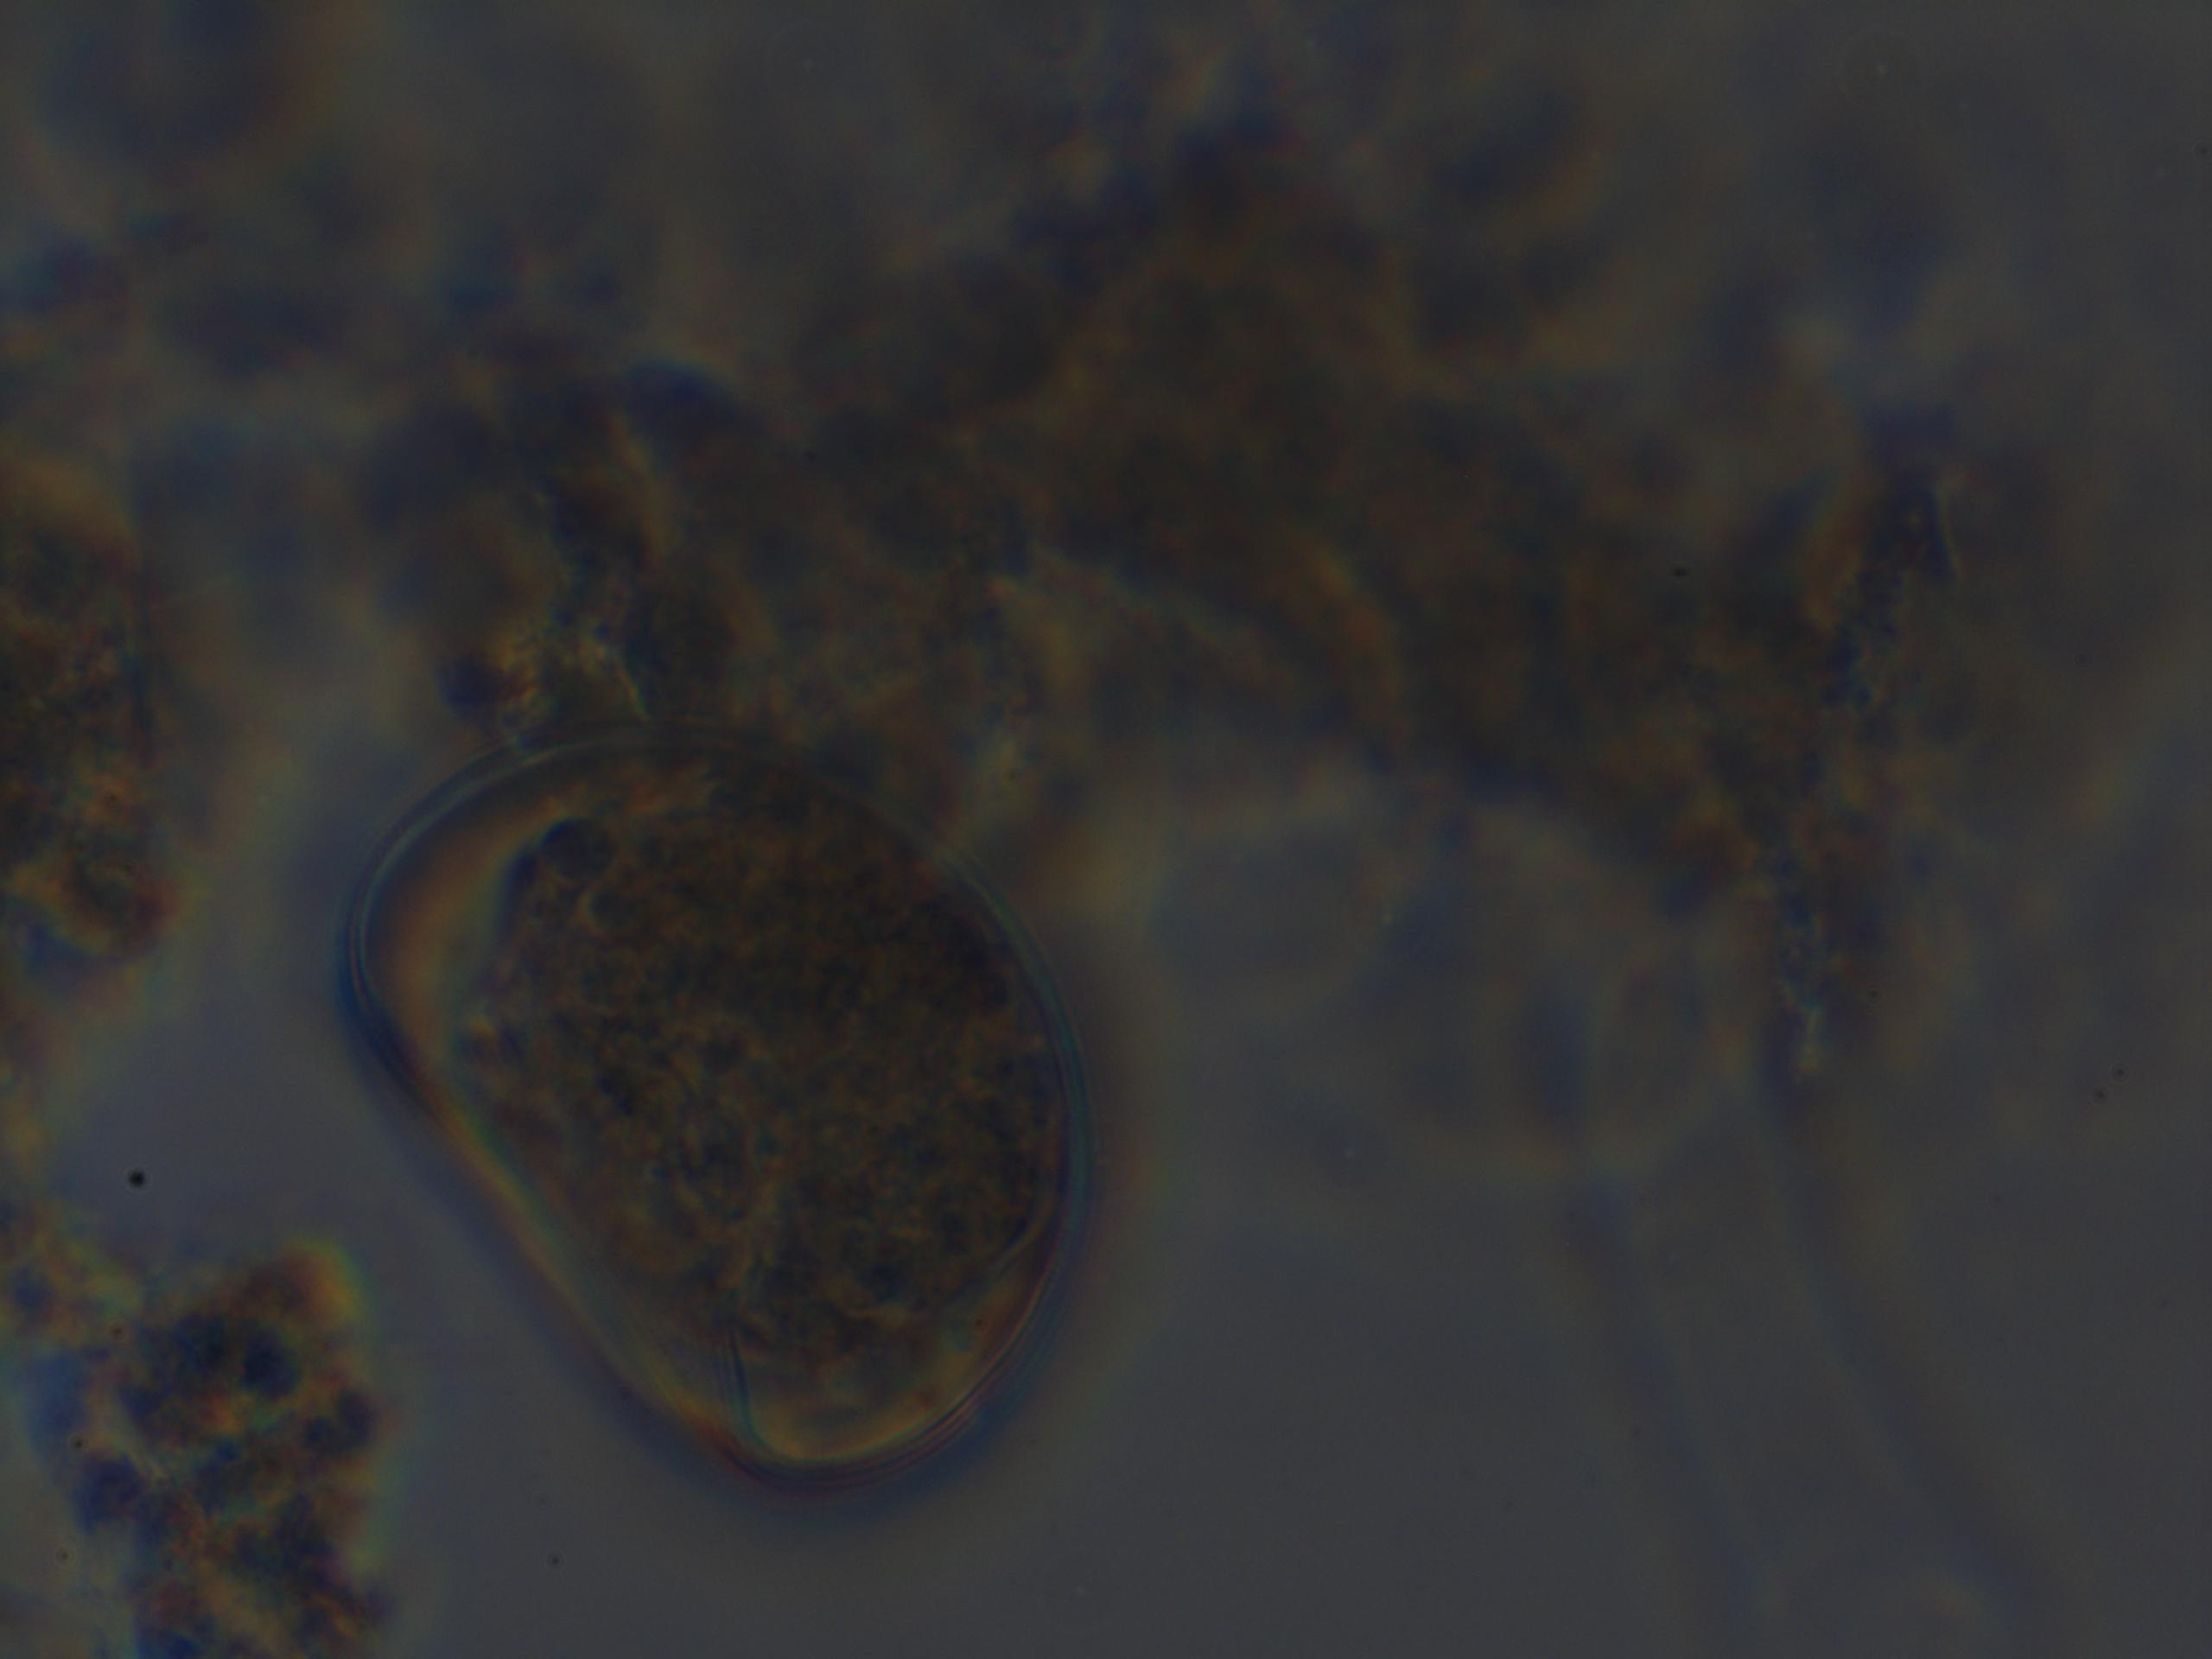protozoa: (341, 716, 1094, 1497)
